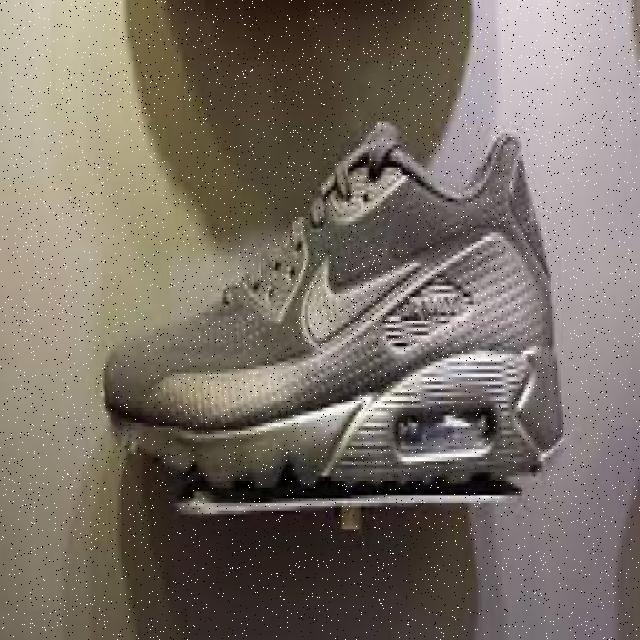Nike: (297, 248, 419, 346)
